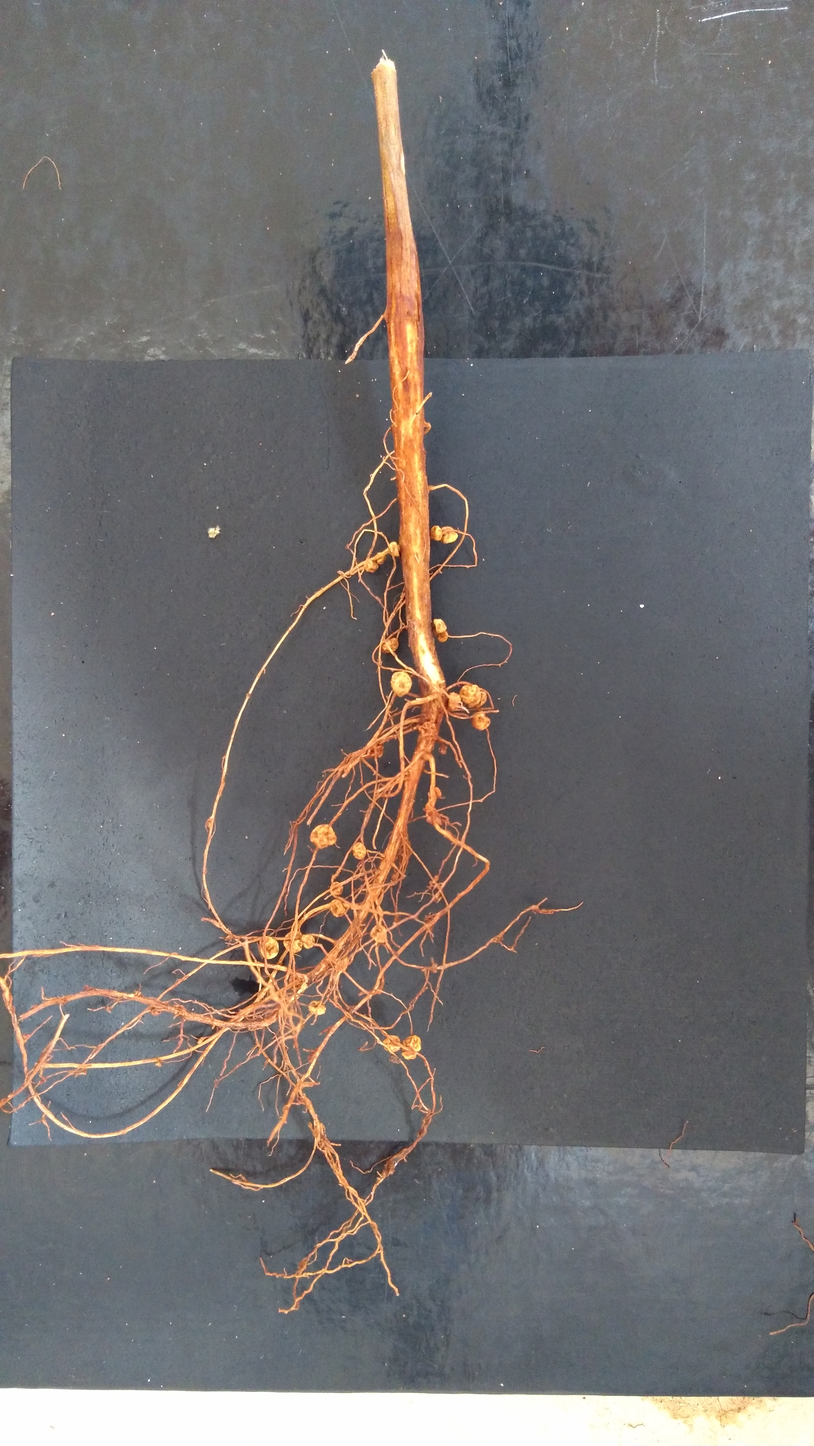nodule: (308, 823, 338, 850), (389, 670, 414, 698), (458, 683, 482, 709), (257, 935, 281, 959), (283, 930, 305, 954), (470, 710, 492, 733), (369, 924, 389, 945), (401, 1034, 423, 1053), (287, 972, 309, 991), (380, 1034, 402, 1052), (380, 637, 400, 655), (330, 898, 348, 918), (448, 689, 463, 713), (441, 526, 459, 545), (351, 841, 367, 862), (308, 999, 327, 1016), (473, 690, 488, 710), (300, 933, 317, 950), (363, 557, 379, 575), (432, 628, 450, 644), (329, 880, 345, 897), (433, 617, 448, 634), (429, 524, 443, 542), (387, 541, 401, 559), (400, 1048, 419, 1061), (426, 786, 443, 800), (370, 744, 384, 760), (374, 551, 388, 566)
